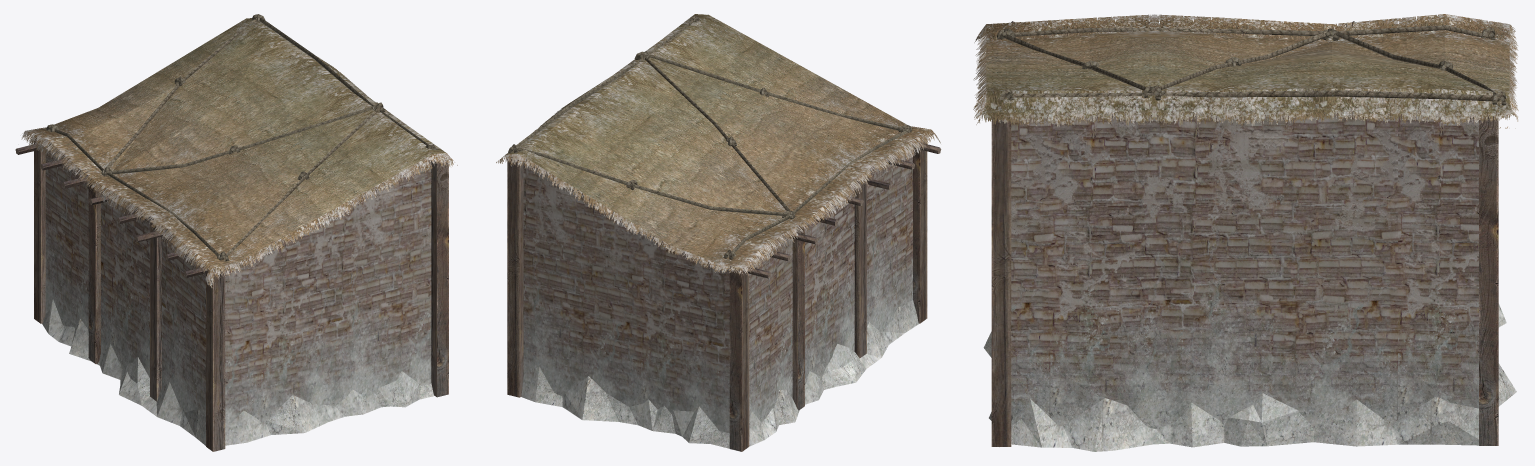
The model's file is bg_eud_common_house04_sm_ysi.FBX.
3 views of the same model, side by side, from view 1: azimuth 30°, elevation 25°; view 2: azimuth 150°, elevation 25°; view 3: azimuth 270°, elevation 25° (orthographic). The views are drawn at different scales.
Visible parts, largest first — view 1: bg_eud_common_house04_sm_ysi; view 2: bg_eud_common_house04_sm_ysi; view 3: bg_eud_common_house04_sm_ysi.
Part boxes in pixels (x1,y1,x2,y2): bg_eud_common_house04_sm_ysi: [15, 14, 457, 451]; bg_eud_common_house04_sm_ysi: [496, 14, 941, 451]; bg_eud_common_house04_sm_ysi: [973, 14, 1518, 451].
Bounding box in the file's own units: 481 × 440 × 617.
